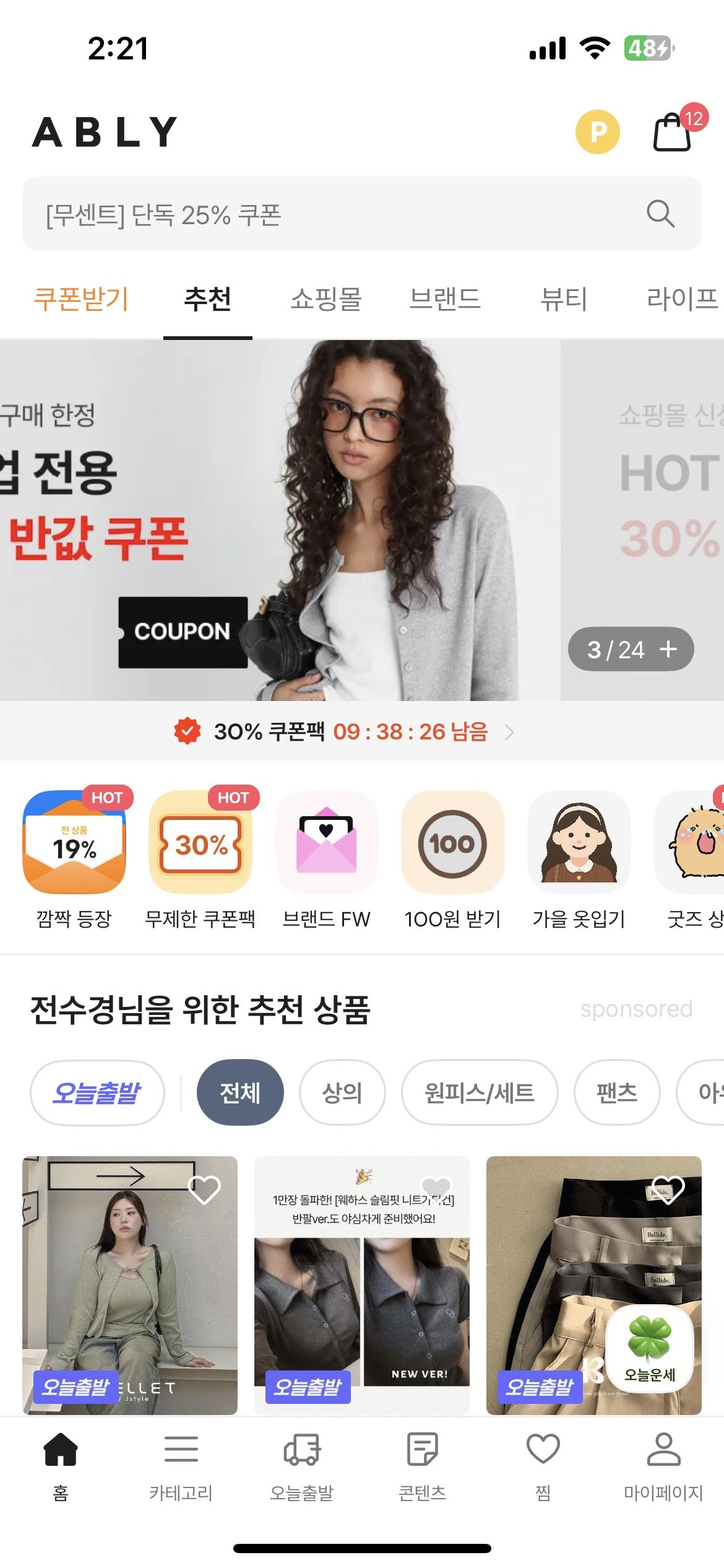button: (23, 784, 134, 900), (149, 786, 260, 898), (274, 789, 386, 900), (522, 786, 633, 898), (398, 789, 509, 900), (408, 1061, 557, 1127), (27, 1057, 161, 1123), (621, 1424, 703, 1509), (192, 1059, 287, 1125), (299, 1057, 394, 1123), (571, 1061, 666, 1127), (27, 268, 138, 324), (144, 1424, 215, 1505), (272, 1428, 342, 1509), (386, 1428, 456, 1509), (503, 1428, 573, 1509), (171, 268, 252, 324), (639, 272, 720, 328), (526, 270, 606, 326), (408, 275, 489, 330), (289, 275, 369, 330), (31, 1428, 83, 1509)
input_field: (12, 171, 701, 248)
popup: (0, 336, 724, 756)
